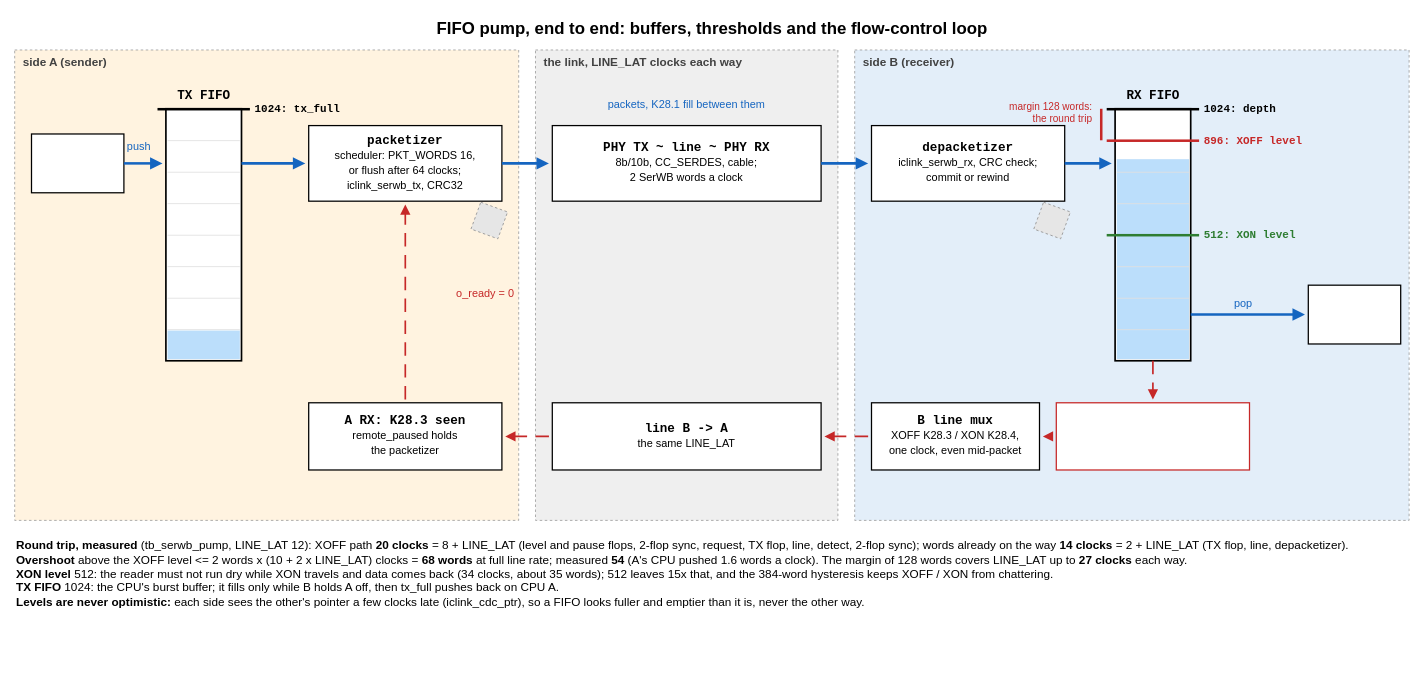
This 1424x690 diagram has some shape labels left out. Grey dashed boxes stand in for pictures. Here are the shapes that lost their labels. From the top down, the centre of each, then its label:
At (x=77, y=163): "CPU A sys clock".
At (x=1354, y=314): "CPU B sys clock".
At (x=1152, y=436): "pause set at >= 896, cleared at < 512 (hysteresis)".
